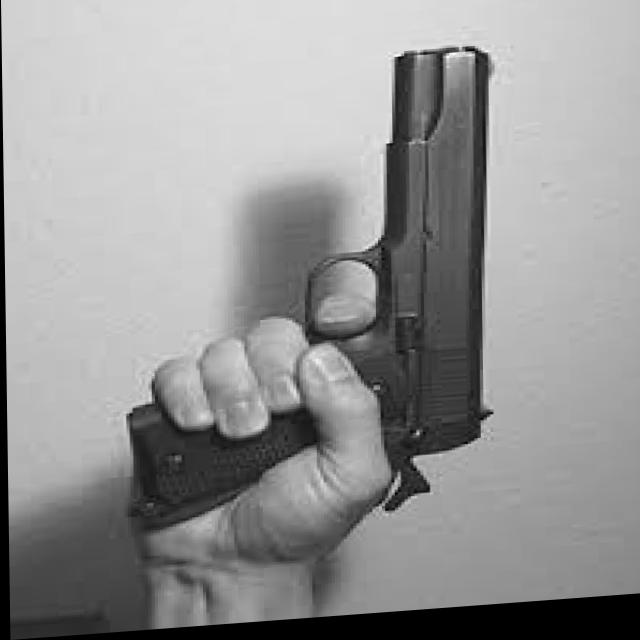handgun: (120, 43, 517, 542)
